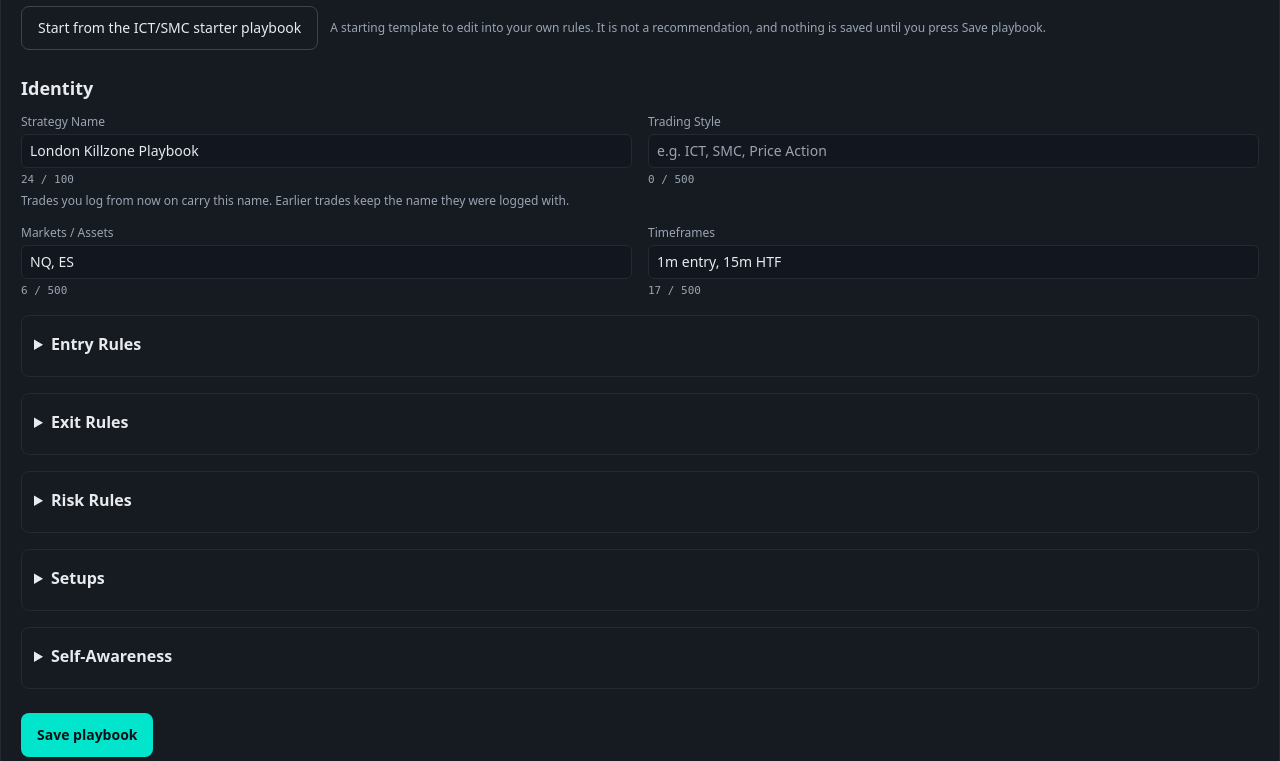
Scenario: Saving › confirms the save and refreshes the server-rendered summary
Click the button "Save playbook" at (87, 735), box left=21, top=713, right=154, bottom=757
(page scrolled)
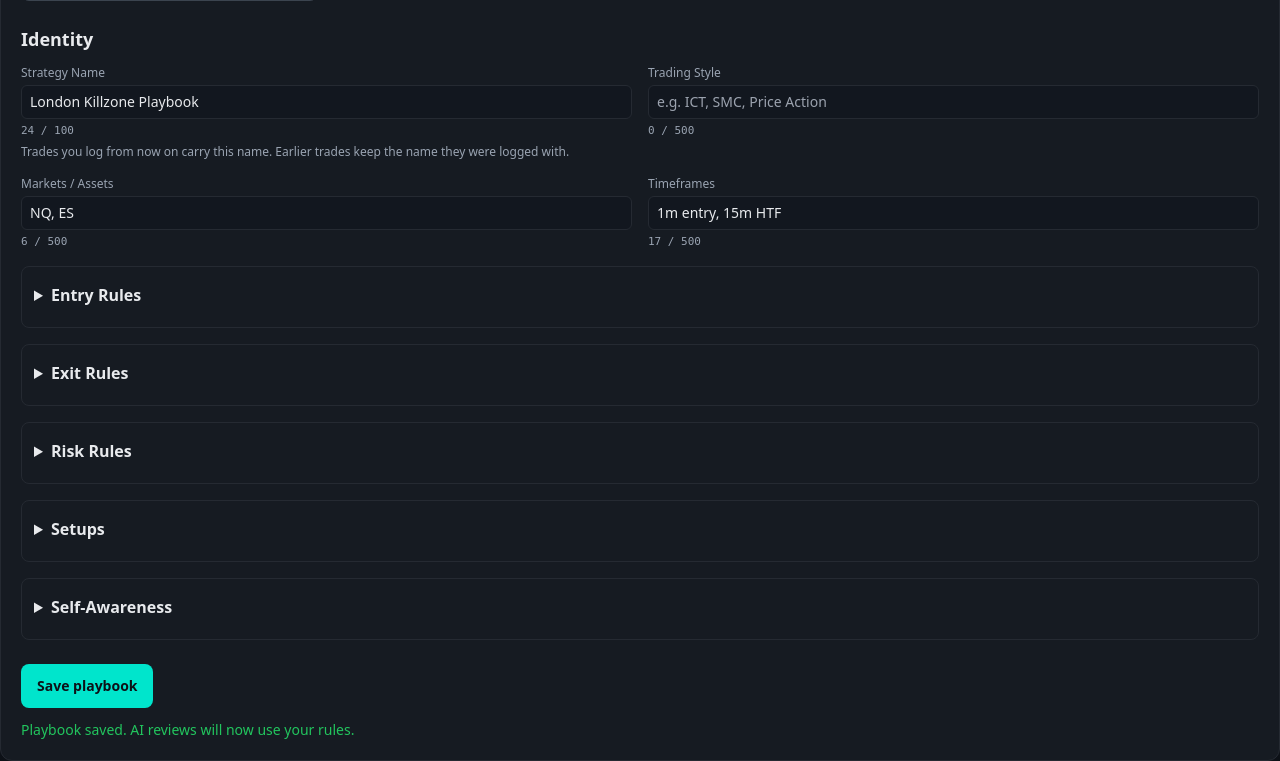
Check: the element with test id "playbook-status" reads "Playbook saved. AI reviews will now use your rules.", box left=21, top=720, right=354, bottom=739
